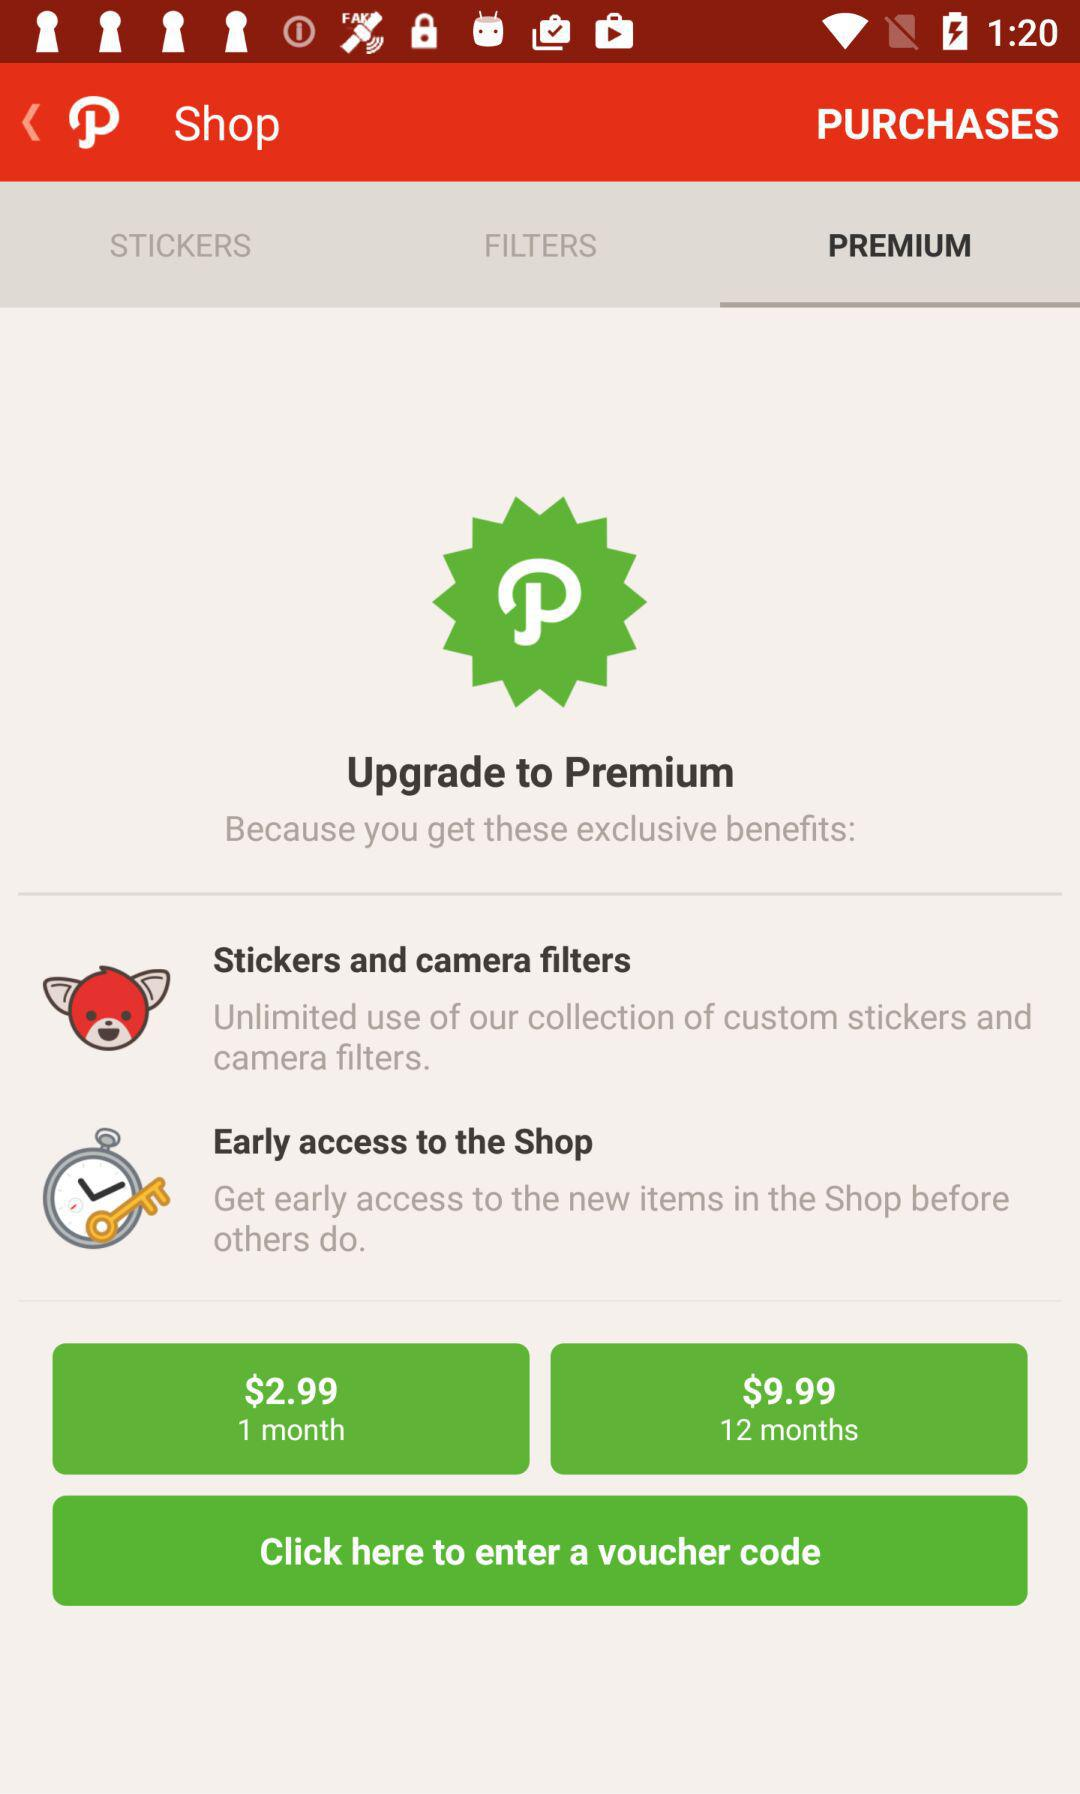Icon: (22, 104, 44, 144)
Image: (430, 495, 650, 711), (44, 1126, 173, 1249), (42, 964, 172, 1052), (69, 96, 120, 151)
Multi_Tab: (1, 182, 1079, 309)
Text: (214, 1002, 1031, 1073), (214, 1183, 1010, 1253), (227, 814, 856, 850), (348, 756, 734, 798), (215, 1126, 594, 1162), (214, 946, 632, 974), (817, 108, 1060, 142), (174, 104, 281, 152), (830, 235, 972, 259), (111, 233, 252, 258), (486, 235, 597, 259)
TextButton: (53, 1495, 1027, 1607), (53, 1342, 530, 1476), (551, 1343, 1029, 1476)
Toolbar: (1, 64, 1080, 182)
UpperTaskBar: (1, 1, 1080, 64)
